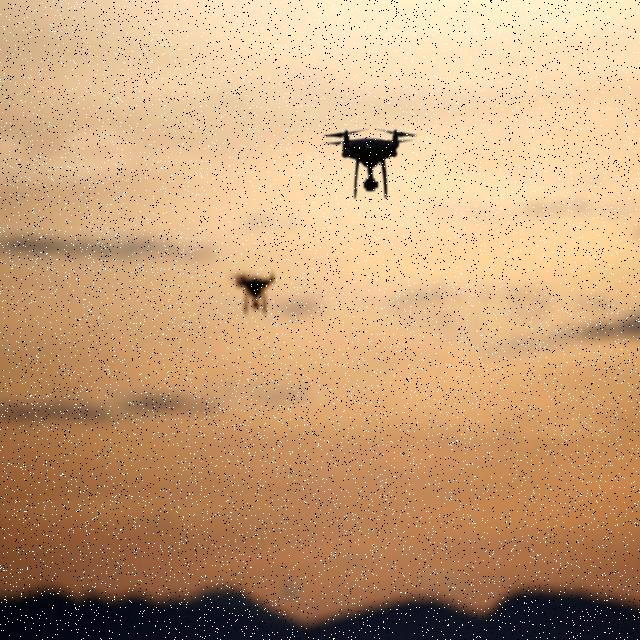UAV: (338, 125, 405, 204), (233, 267, 278, 320)
